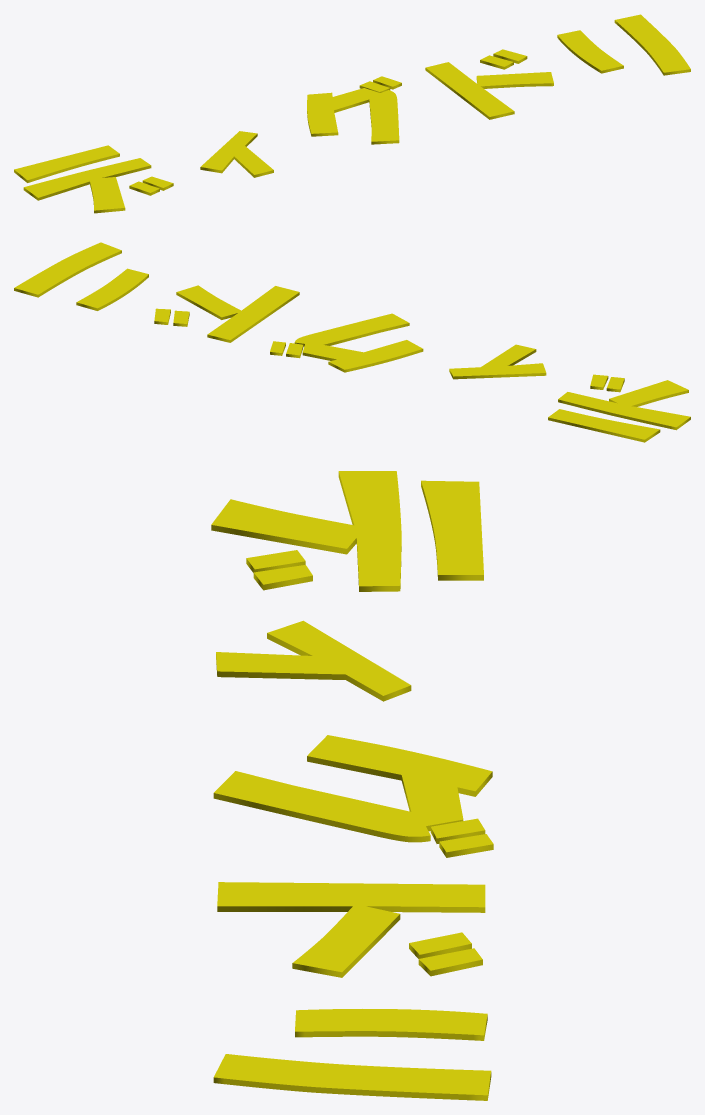
Rendered from title.gltf.
The picture shows the model from 3 angles, top to bottom: view 1: azimuth 30°, elevation 25°; view 2: azimuth 150°, elevation 25°; view 3: azimuth 270°, elevation 25°; orthographic projection. The views are drawn at different scales.
Parts seen in each view (by area): view 1: テキスト; view 2: テキスト; view 3: テキスト.
Boxes of the visible parts, x1=… form: テキスト: x1=14, y1=14, x2=690, y2=213; テキスト: x1=14, y1=242, x2=690, y2=442; テキスト: x1=211, y1=471, x2=493, y2=1100.
Bounding box in the file's own units: 23.7 × 0.1 × 4.53.
